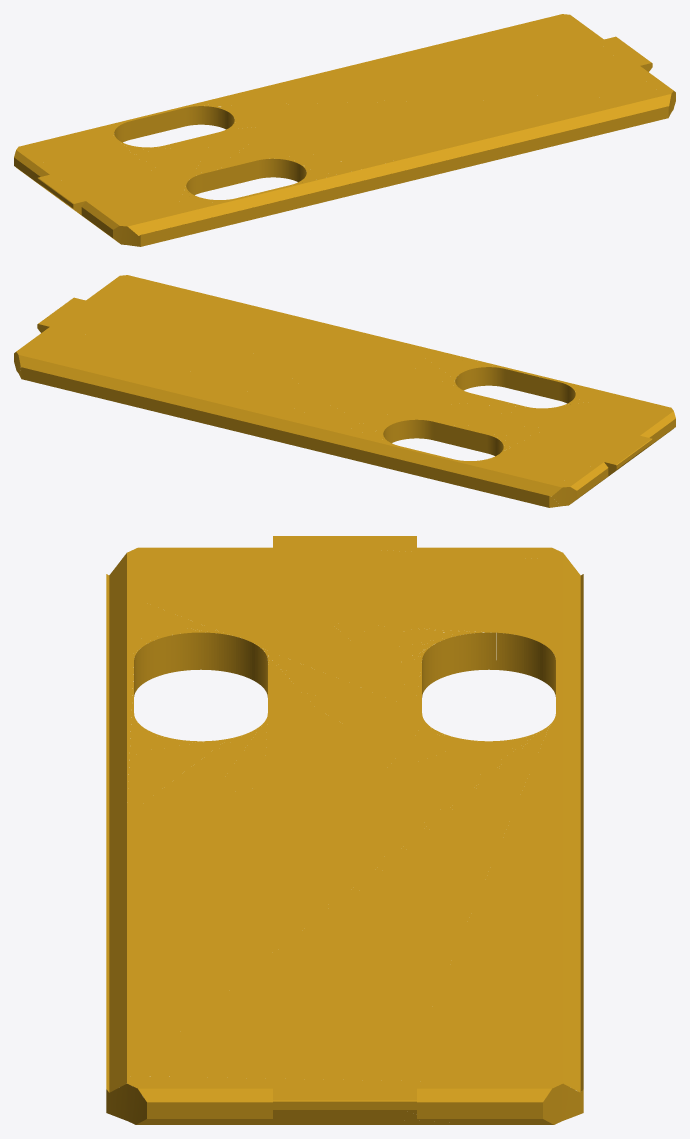
The model's file is asinma-atlas-copco-mb-1700-03.glb.
3 renders of one model, top to bottom at view 1: azimuth 30°, elevation 25°; view 2: azimuth 150°, elevation 25°; view 3: azimuth 270°, elevation 25°, orthographic. The views are drawn at different scales.
Visible parts, largest first — view 1: body; view 2: body; view 3: body.
Boxes of the visible parts, box(x1,y1,x2,y2) form: body: box(14, 14, 675, 246); body: box(14, 275, 675, 507); body: box(106, 536, 583, 1124).
Bounding box in the file's own units: 0.65 × 0.02 × 0.232.
